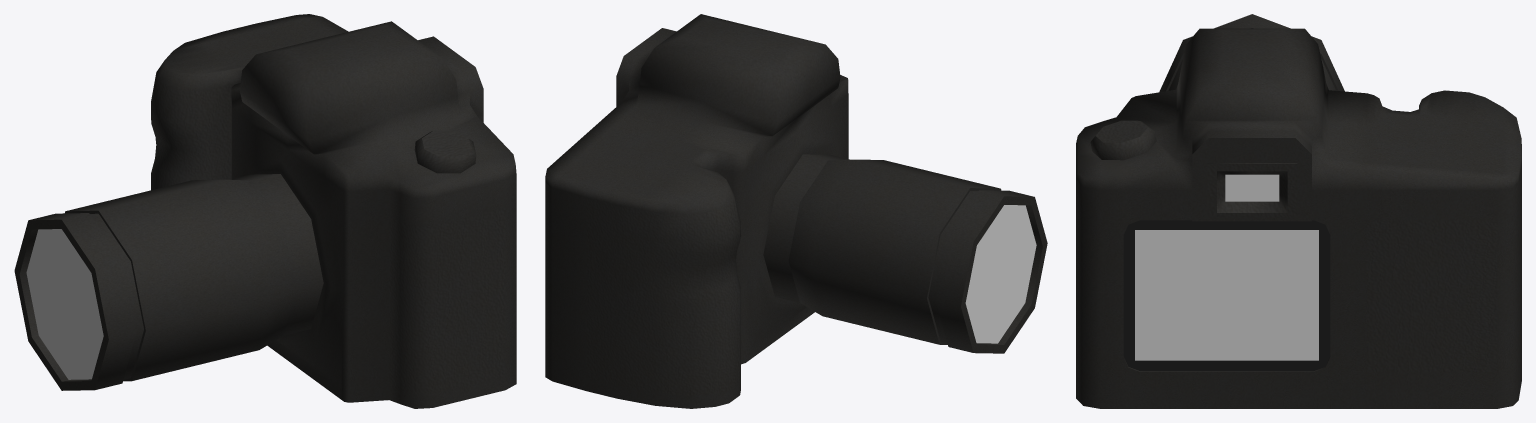
File: Camera.fbx
The picture shows the model from 3 angles, left to right: view 1: azimuth 30°, elevation 25°; view 2: azimuth 150°, elevation 25°; view 3: azimuth 270°, elevation 25°; orthographic projection. The views are drawn at different scales.
Parts seen in each view (by area): view 1: Camera; view 2: Camera; view 3: Camera.
Part boxes in pixels (x1=…): Camera: x1=14, y1=14, x2=516, y2=408; Camera: x1=545, y1=14, x2=1047, y2=408; Camera: x1=1076, y1=14, x2=1521, y2=408.
Size of the model in its own units: 288 by 207 by 272.
5 materials, 3 textured.
